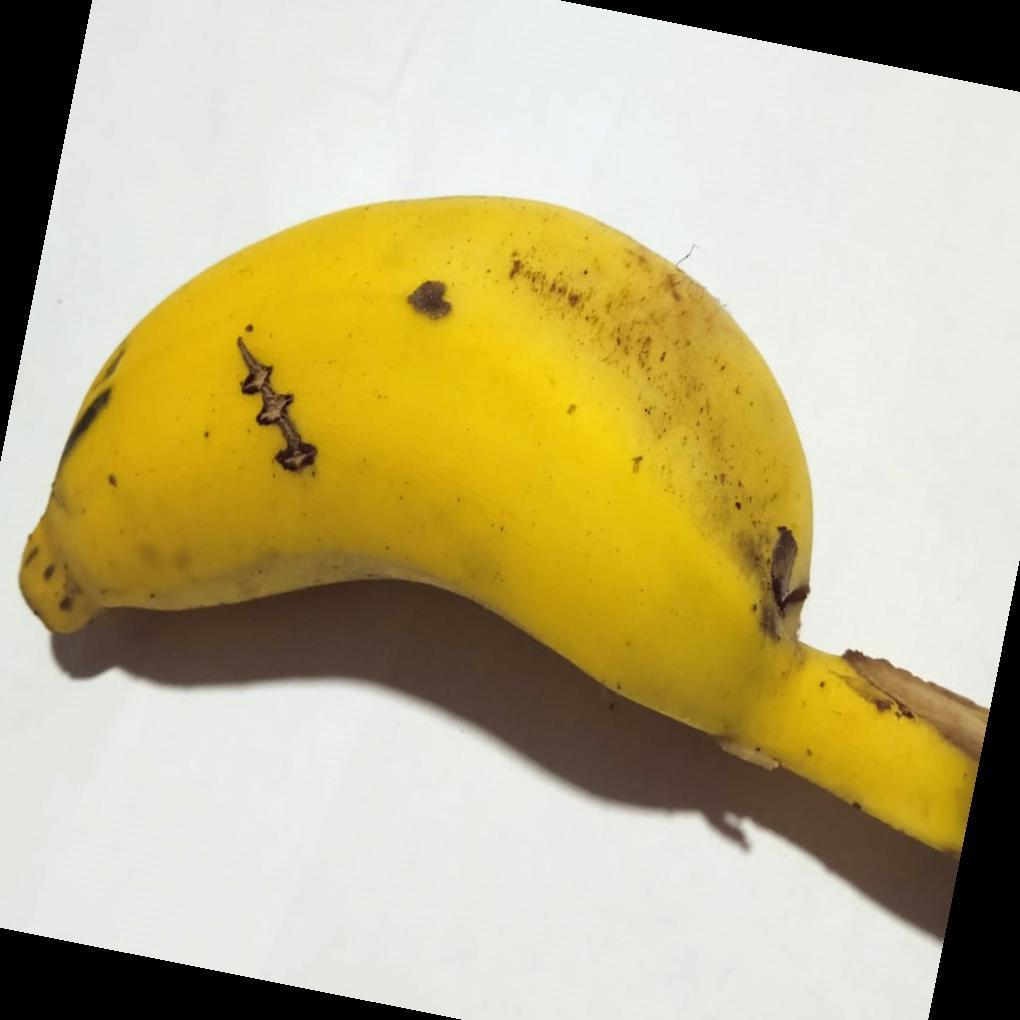Banana Ripe: (6, 184, 1010, 919)
